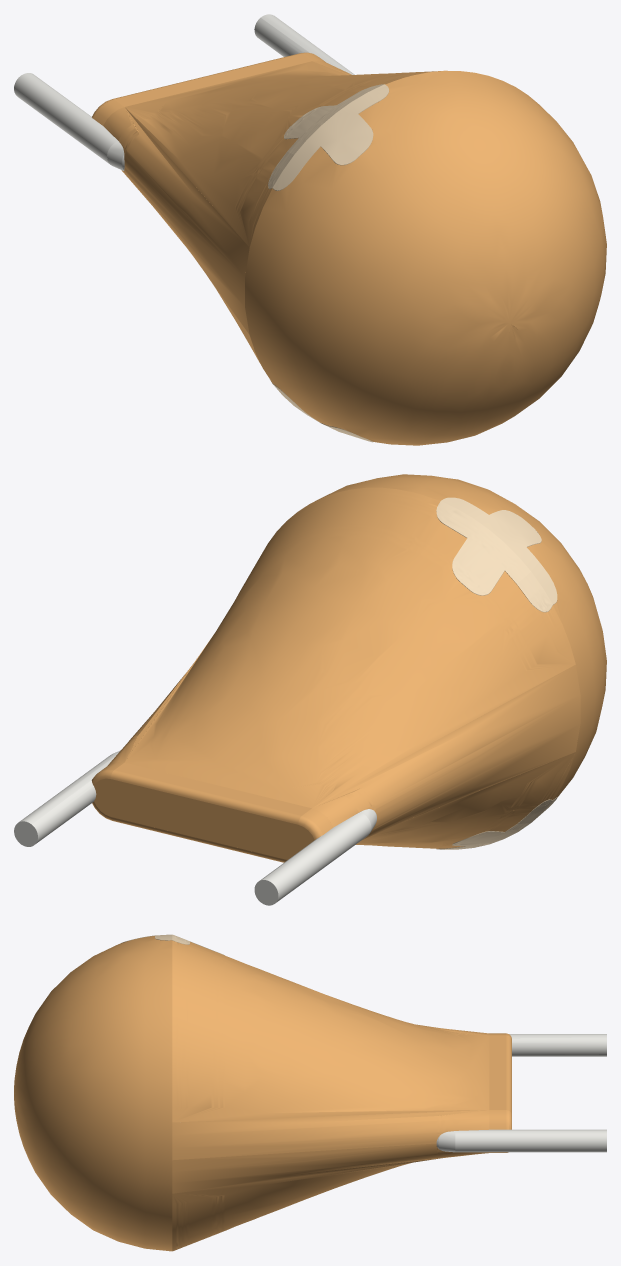
File: CP_Radial_Tantal_D7.0mm_P5.00mm.glb
3 renders of one model, top to bottom at view 1: azimuth 30°, elevation 25°; view 2: azimuth 150°, elevation 25°; view 3: azimuth 270°, elevation 25°, orthographic. The views are drawn at different scales.
Parts seen in each view (by area): view 1: Shape_IndexedFaceSet.022, Shape_IndexedFaceSet.023, Shape_IndexedFaceSet.038, Shape_IndexedFaceSet.001, Shape_IndexedFaceSet.058, Shape_IndexedFaceSet.039, Shape_IndexedFaceSet.042, Shape_IndexedFaceSet; view 2: Shape_IndexedFaceSet.023, Shape_IndexedFaceSet.038, Shape_IndexedFaceSet.022, Shape_IndexedFaceSet.065, Shape_IndexedFaceSet.026, Shape_IndexedFaceSet, Shape_IndexedFaceSet.058, Shape_IndexedFaceSet.001, Shape_IndexedFaceSet.042, Shape_IndexedFaceSet.039, Shape_IndexedFaceSet.062, Shape_IndexedFaceSet.055 (+2 smaller); view 3: Shape_IndexedFaceSet.022, Shape_IndexedFaceSet.023, Shape_IndexedFaceSet.024, Shape_IndexedFaceSet.026, Shape_IndexedFaceSet.025, Shape_IndexedFaceSet.042, Shape_IndexedFaceSet.058, Shape_IndexedFaceSet.039, Shape_IndexedFaceSet.062.
Part boxes in pixels (x1,y1,x2,y2): Shape_IndexedFaceSet.022: [245, 70, 606, 445]; Shape_IndexedFaceSet.023: [125, 61, 440, 247]; Shape_IndexedFaceSet.038: [103, 107, 249, 334]; Shape_IndexedFaceSet.001: [272, 84, 388, 190]; Shape_IndexedFaceSet.058: [14, 73, 118, 163]; Shape_IndexedFaceSet.039: [114, 53, 311, 106]; Shape_IndexedFaceSet.042: [254, 14, 354, 74]; Shape_IndexedFaceSet: [268, 84, 383, 188]; Shape_IndexedFaceSet.023: [125, 487, 575, 808]; Shape_IndexedFaceSet.038: [312, 664, 580, 840]; Shape_IndexedFaceSet.022: [316, 474, 606, 799]; Shape_IndexedFaceSet.065: [94, 778, 314, 859]; Shape_IndexedFaceSet.026: [356, 752, 575, 848]; Shape_IndexedFaceSet: [436, 501, 552, 611]; Shape_IndexedFaceSet.058: [260, 812, 371, 902]; Shape_IndexedFaceSet.001: [441, 497, 557, 604]; Shape_IndexedFaceSet.042: [19, 753, 117, 843]; Shape_IndexedFaceSet.039: [114, 762, 311, 815]; Shape_IndexedFaceSet.062: [110, 770, 301, 824]; Shape_IndexedFaceSet.055: [440, 800, 552, 849]; Shape_IndexedFaceSet.022: [14, 936, 172, 1251]; Shape_IndexedFaceSet.023: [172, 940, 489, 1122]; Shape_IndexedFaceSet.024: [172, 1110, 489, 1160]; Shape_IndexedFaceSet.026: [172, 1158, 442, 1251]; Shape_IndexedFaceSet.025: [172, 1143, 489, 1193]; Shape_IndexedFaceSet.042: [455, 1129, 606, 1152]; Shape_IndexedFaceSet.058: [509, 1034, 606, 1056]; Shape_IndexedFaceSet.039: [489, 1035, 506, 1109]; Shape_IndexedFaceSet.062: [506, 1035, 511, 1113].
Bounding box in the file's own units: 2.75 × 2.76 × 5.16.
